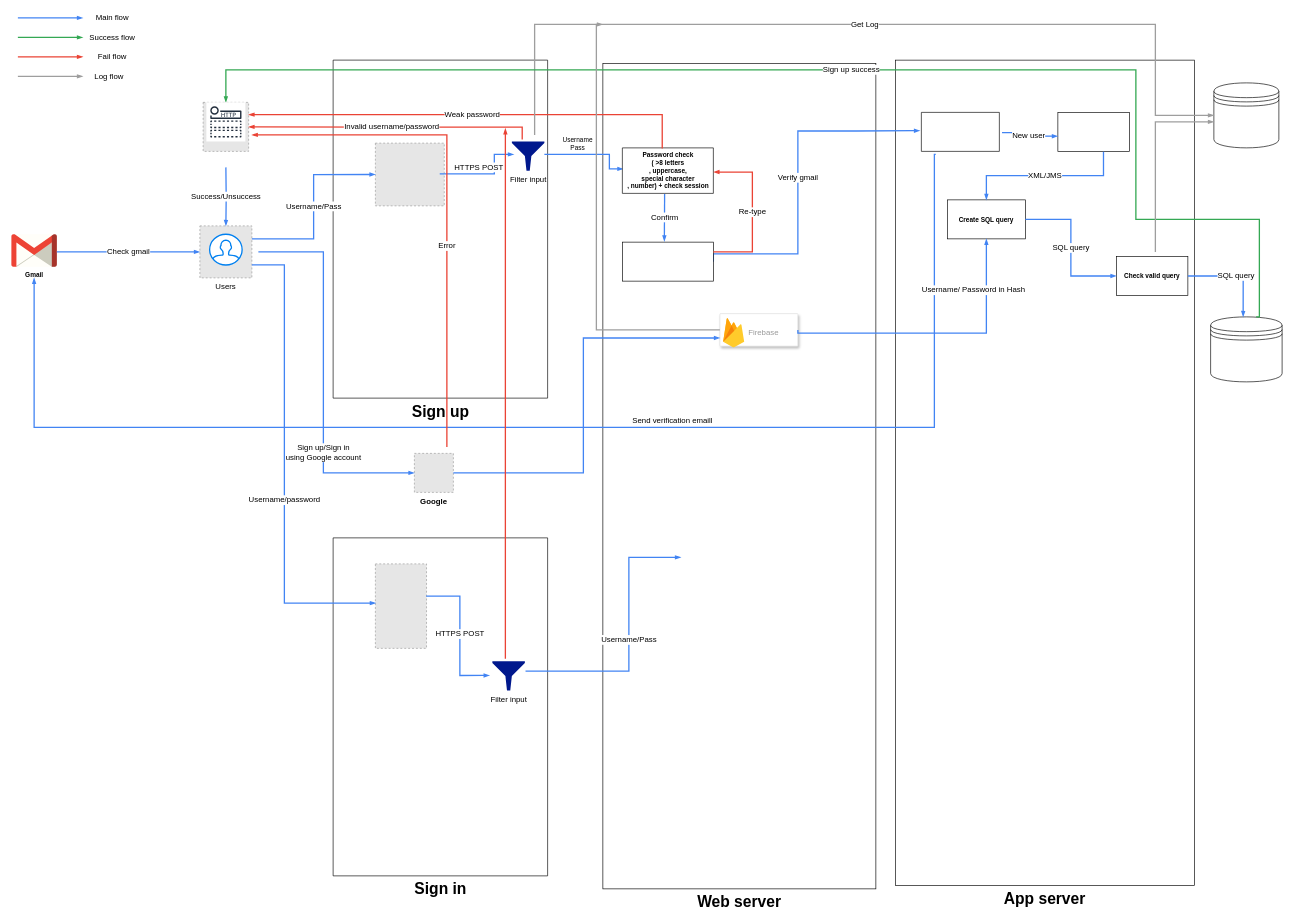
The diagram is 1294 pixels wide and 923 high, and some of its shapes have lost their labels. Grey dashed boxes stand in for pictures. Each missing label, with the centre of its shape:
Authentication database: point (1246, 349)
HTTP notification: point (225, 121)
Log: point (1246, 115)
Retype password: point (667, 261)
Salt + Hash password (SHA254): point (1093, 131)
Verify sign up: point (960, 131)
